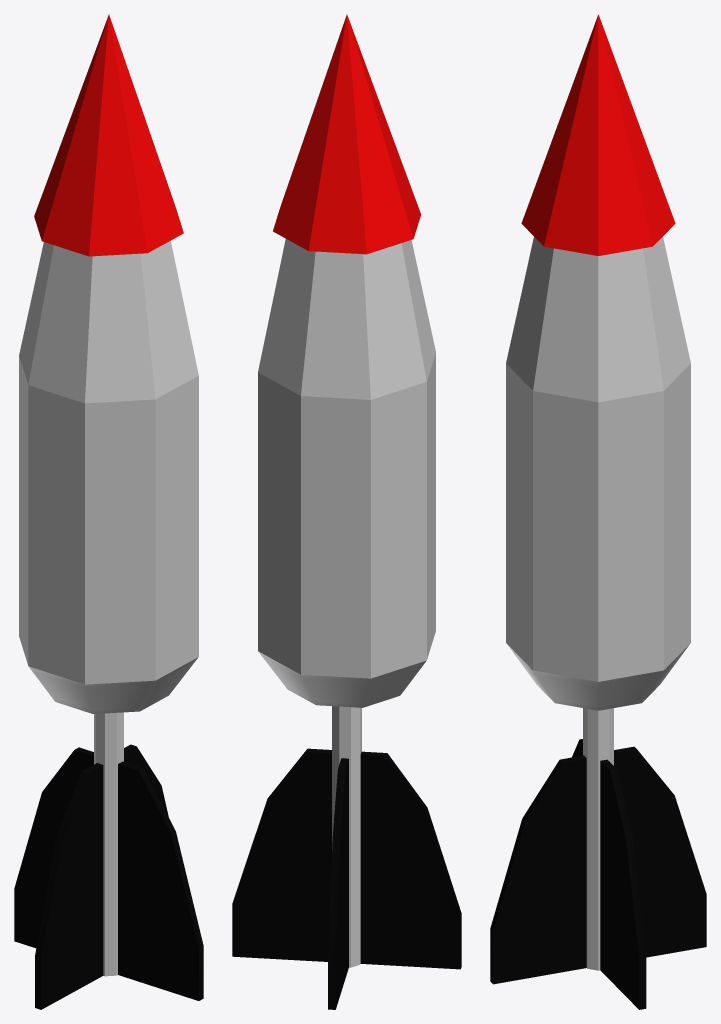
The model's file is Projectile.fbx.
The picture shows the model from 3 angles, left to right: view 1: azimuth 30°, elevation 25°; view 2: azimuth 150°, elevation 25°; view 3: azimuth 270°, elevation 25°; orthographic projection.
Visible parts, largest first — view 1: Corpus, Flights, Top; view 2: Corpus, Flights, Top; view 3: Corpus, Flights, Top.
Part boxes in pixels (<box>): Corpus: <box>19,240,198,976</box>; Flights: <box>14,744,203,1009</box>; Top: <box>34,14,183,256</box>; Corpus: <box>258,239,435,967</box>; Flights: <box>232,748,461,1009</box>; Top: <box>273,14,421,254</box>; Corpus: <box>506,237,690,970</box>; Flights: <box>490,739,706,1009</box>; Top: <box>521,14,675,255</box>.
Size of the model in its own units: 9.83 by 47.6 by 9.83.
